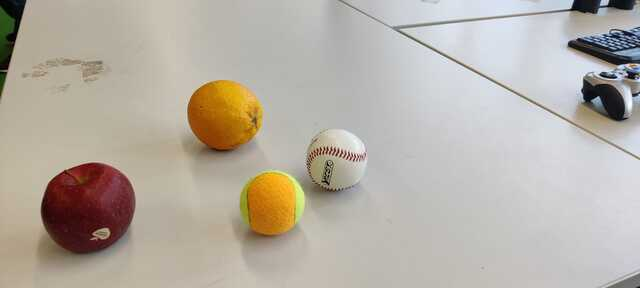013_apple: (40, 161, 137, 255)
017_orange: (186, 79, 266, 151)
055_baseball: (306, 129, 368, 191)
056_tennis_ball: (238, 170, 306, 236)
